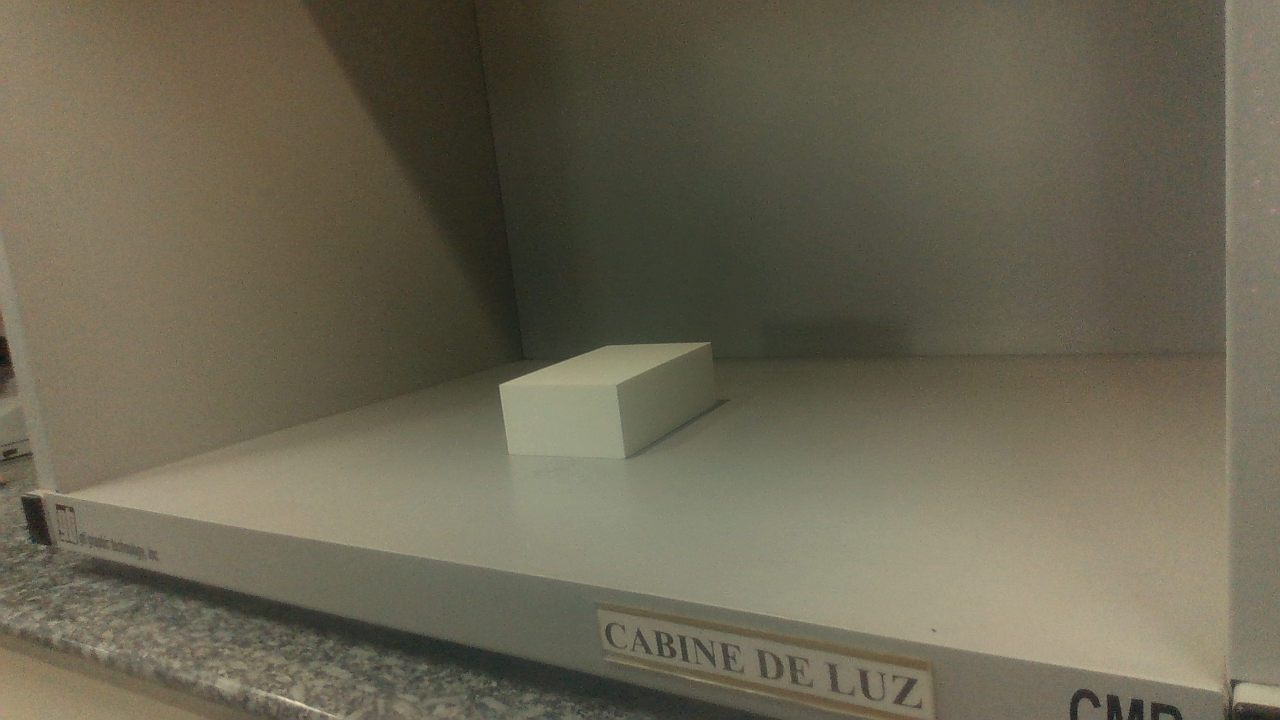Retangulo: (497, 342, 716, 460)
